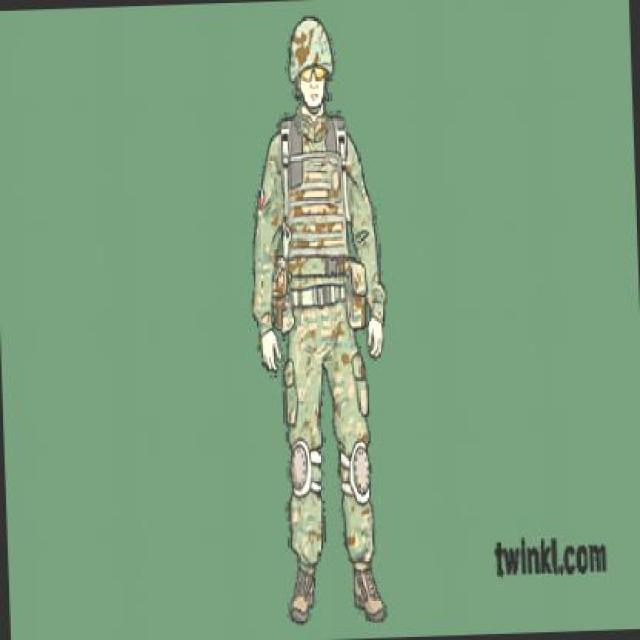MIL_Pax: (240, 8, 394, 627)
